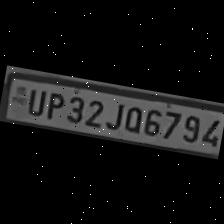2: (81, 94, 107, 128)
3: (61, 90, 85, 124)
4: (196, 114, 222, 146)
6: (138, 104, 162, 137)
7: (159, 107, 181, 141)
9: (176, 110, 202, 144)
J: (102, 98, 125, 132)
P: (43, 88, 66, 122)
Q: (119, 101, 146, 134)
U: (22, 84, 46, 117)
